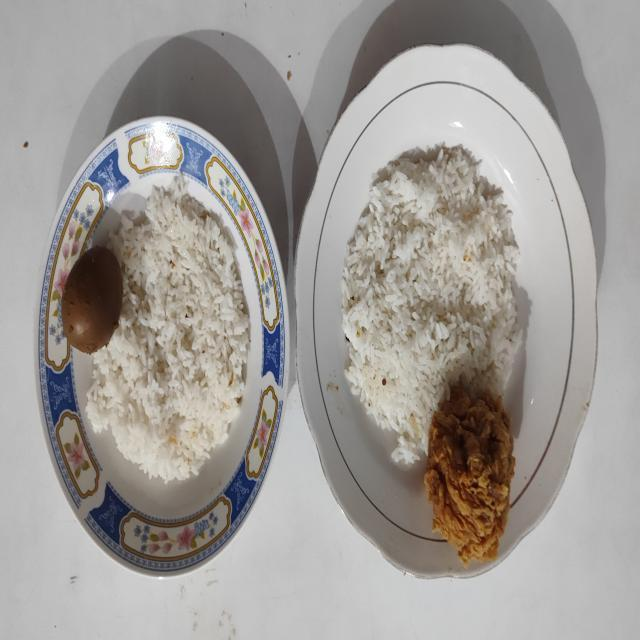nasi_putih: (342, 142, 520, 464), (86, 175, 250, 482)
